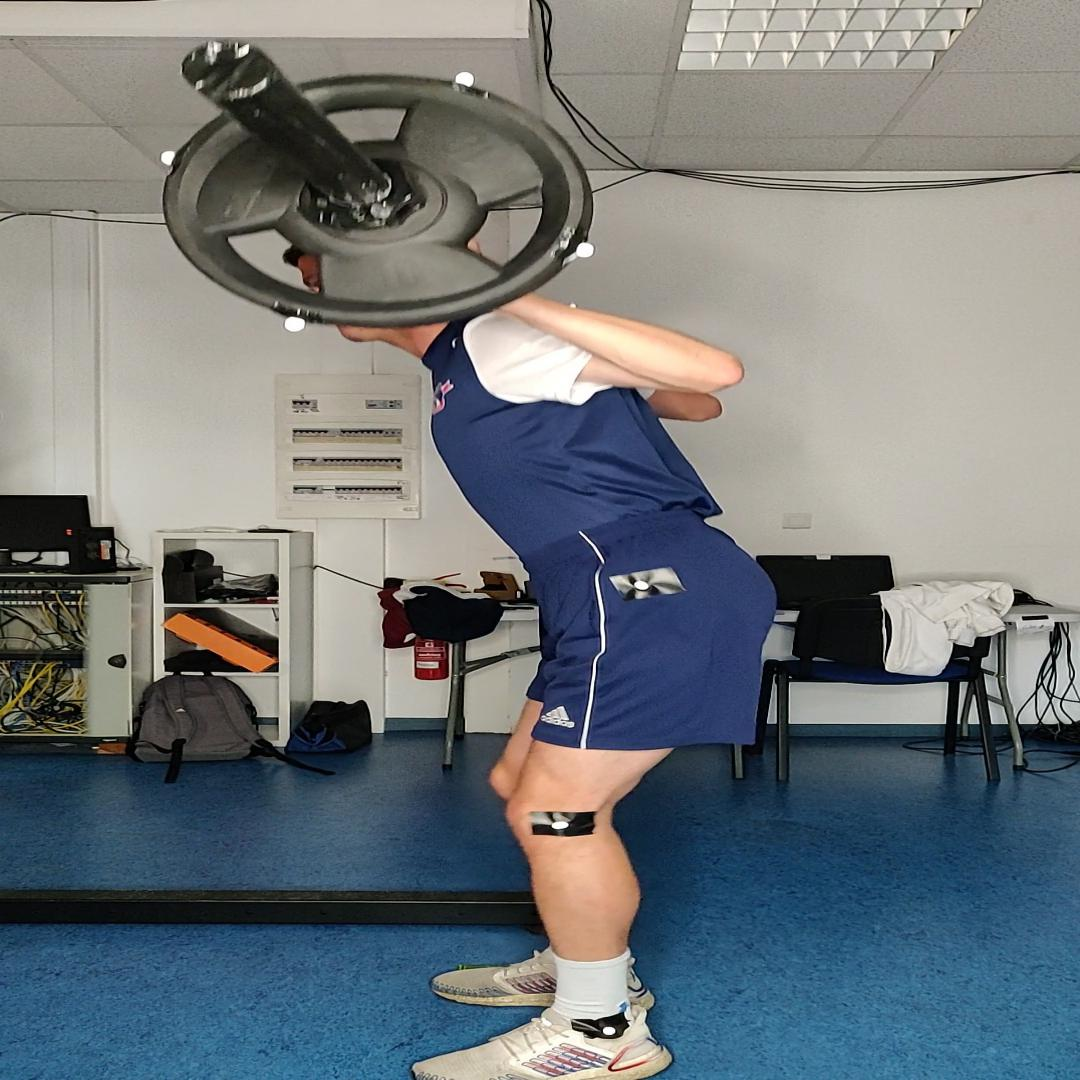Bar: (181, 40, 277, 100)
Barbell: (159, 72, 596, 329)
